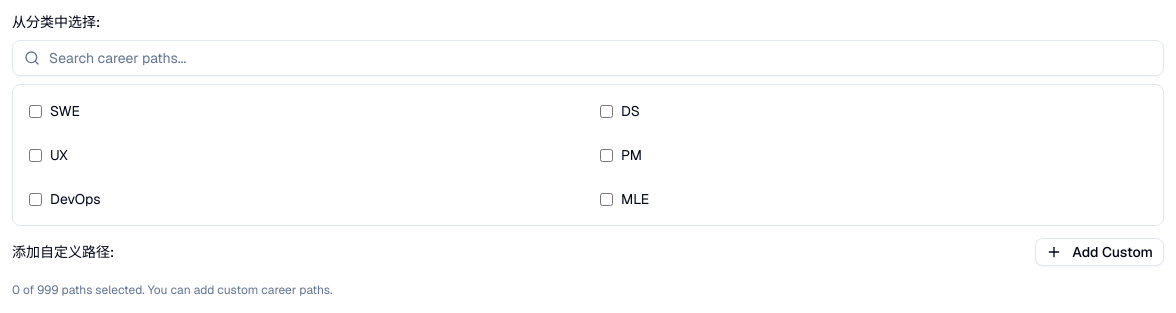
Test: CareerPathMultiSelector › allows searching available paths
Step 1. Type "software" into the field with placeholder "Search career paths..." → [588, 58], box x1=12 y1=40 x2=1164 y2=76
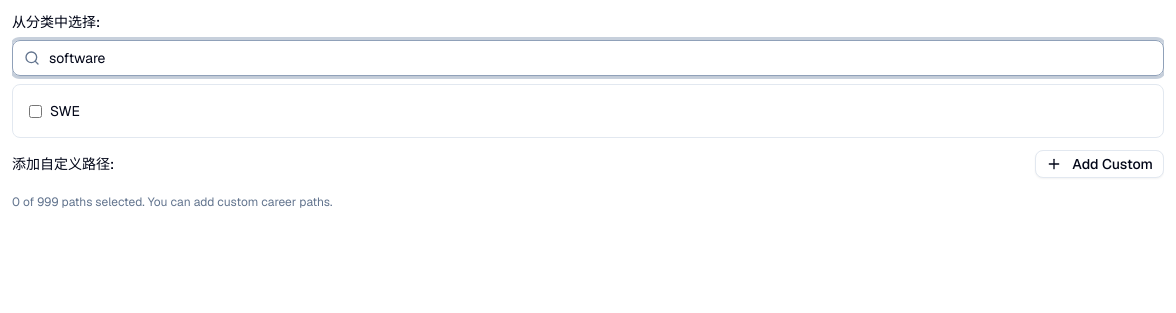
Expected: the text "SWE" is shown, x1=50 y1=102 x2=80 y2=120
Now the text "DS" is gone
